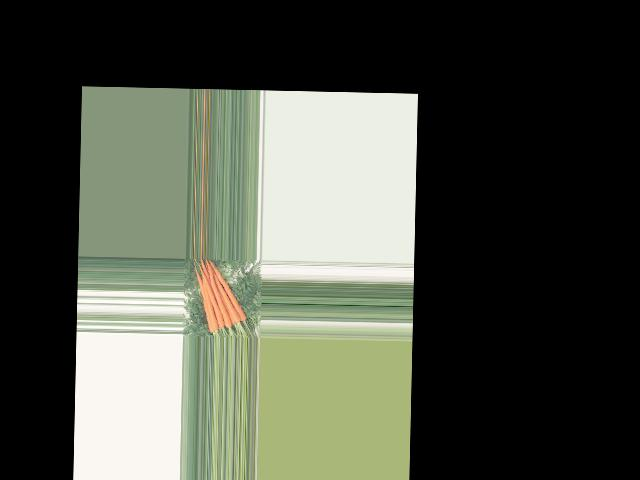carrot: (190, 262, 219, 334)
